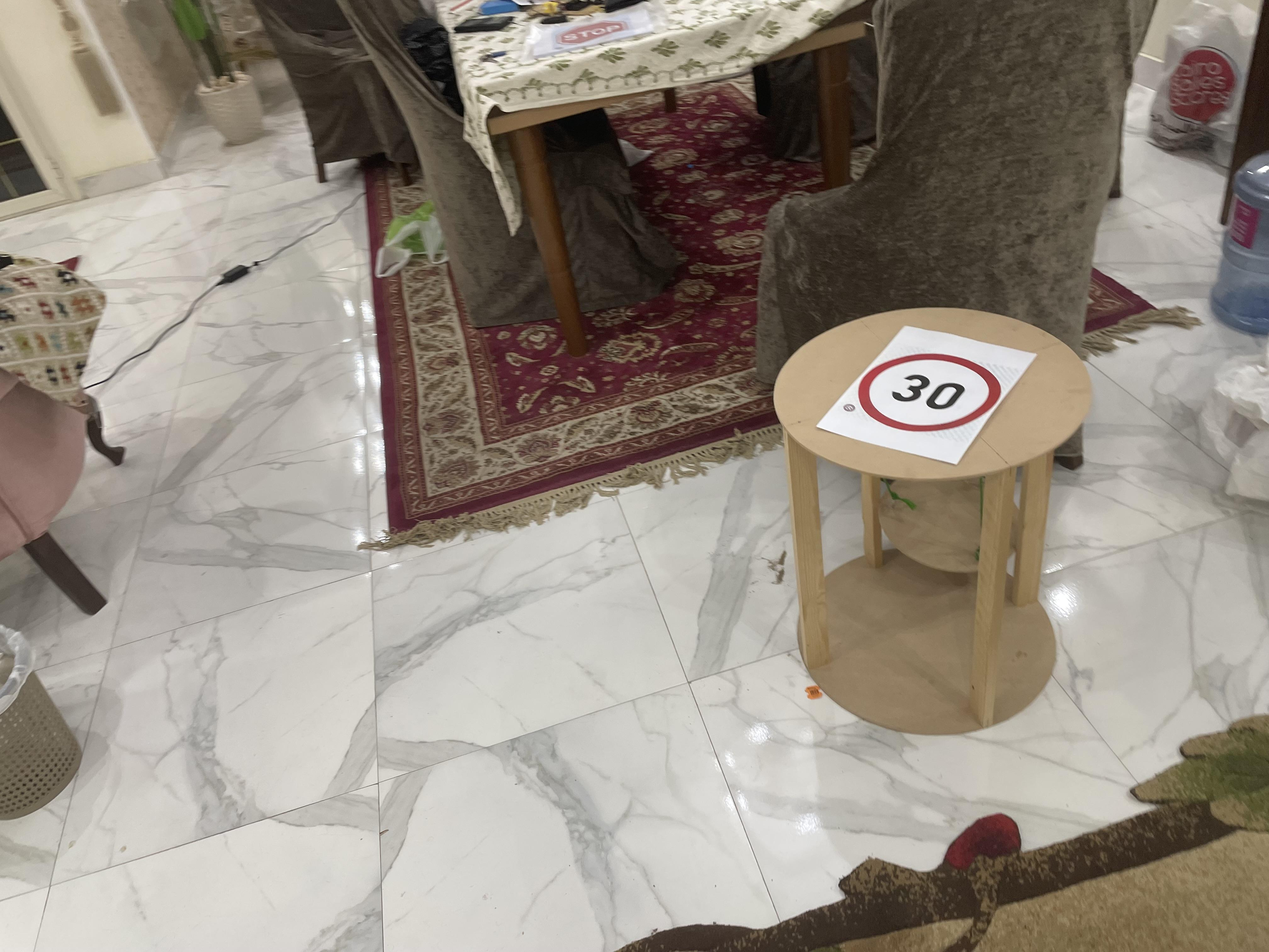30-speed: (858, 350, 1004, 436)
